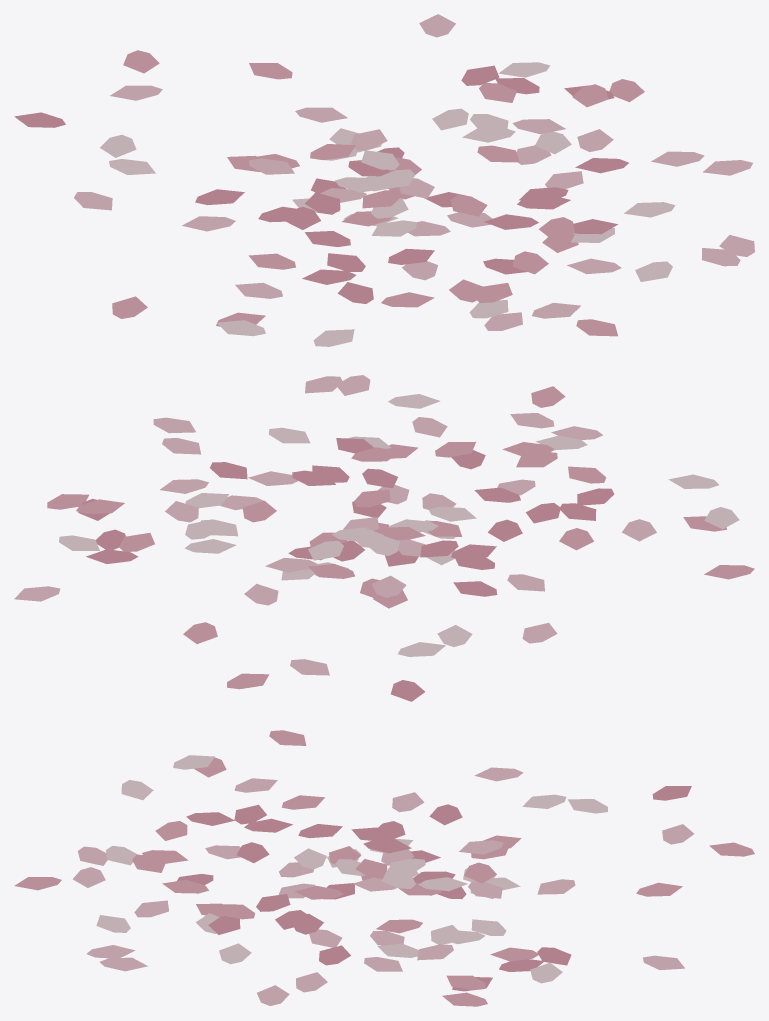
File: ring_petals.glb
3 renders of one model, top to bottom at view 1: azimuth 30°, elevation 25°; view 2: azimuth 150°, elevation 25°; view 3: azimuth 270°, elevation 25°, orthographic. The views are drawn at different scales.
Visible parts, largest first — view 1: body_nh; view 2: body_nh; view 3: body_nh.
Part boxes in pixels (left/top/right/bottom): body_nh: left=14, top=14, right=754, bottom=346; body_nh: left=14, top=375, right=754, bottom=701; body_nh: left=14, top=730, right=754, bottom=1006.
Bounding box in the file's own units: 9.45 × 0.047 × 10.64.
